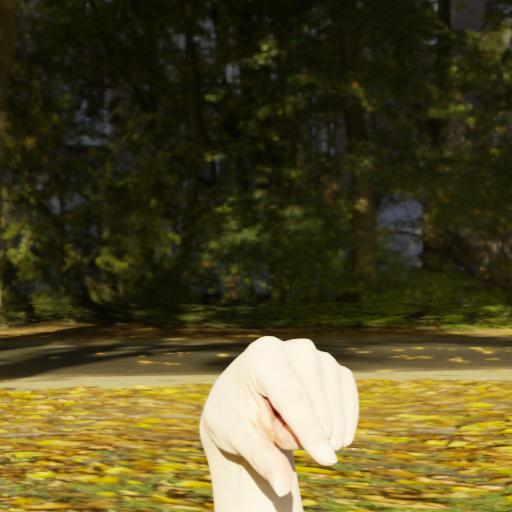Q: (191, 318, 367, 512)
